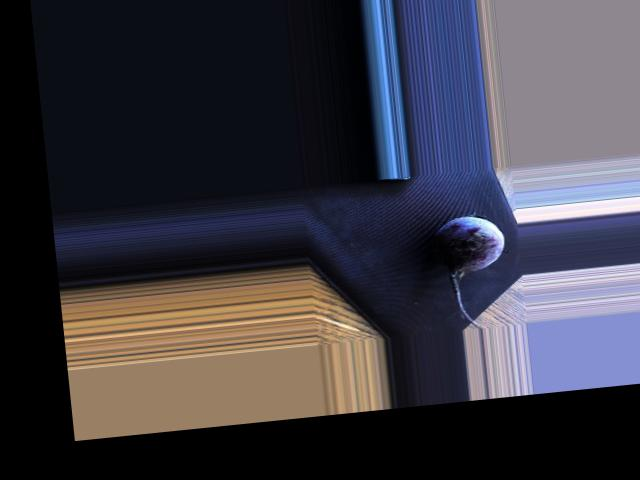beet: (428, 213, 512, 332)
